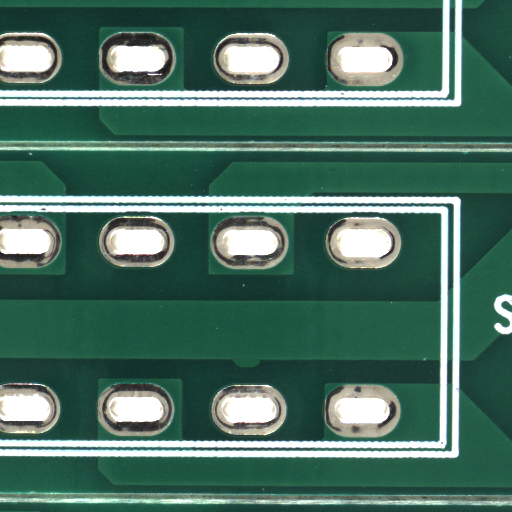Spur: (246, 363, 278, 374)
